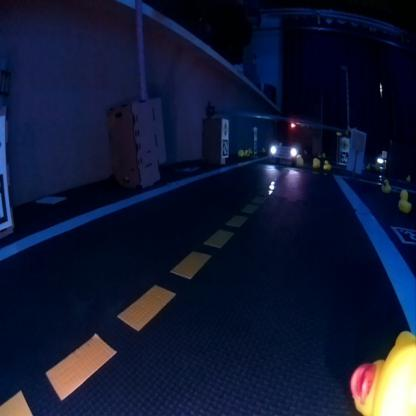Duckie: (350, 330, 414, 413), (398, 190, 409, 212), (383, 181, 389, 192), (323, 161, 330, 169), (313, 160, 319, 168)
Duckiebot: (269, 140, 297, 165)
Intersection sign: (340, 137, 347, 149)
QR code: (392, 225, 414, 243), (221, 139, 227, 156), (340, 152, 348, 164)
